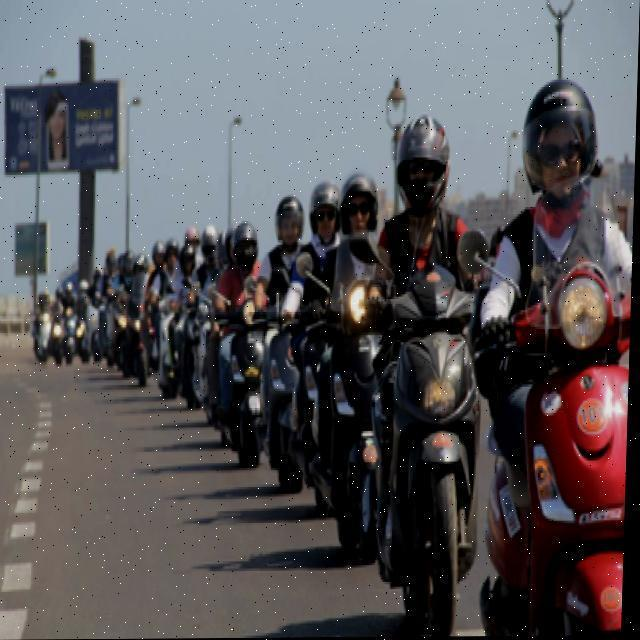Helmet: (518, 73, 604, 210), (392, 110, 461, 216), (336, 172, 386, 235), (268, 194, 310, 256), (228, 218, 262, 270), (316, 186, 342, 243), (204, 221, 222, 271), (180, 240, 201, 282), (150, 239, 170, 276)
